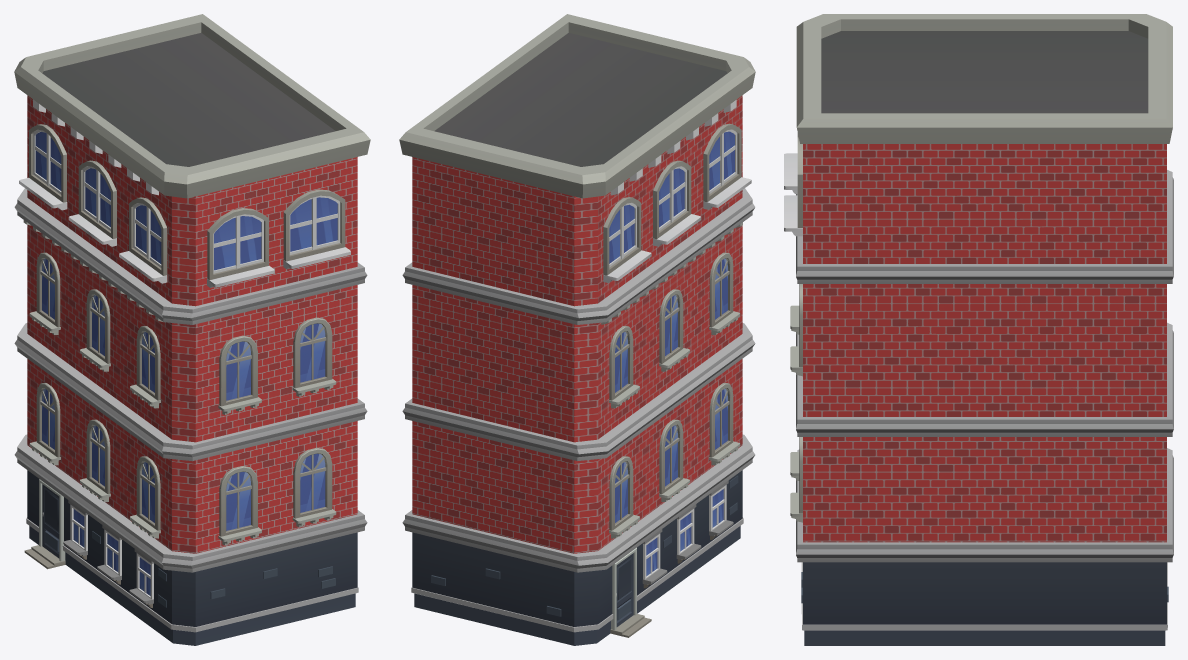
The model's file is Building_18_2_S.glb.
3 views of the same model, side by side, from view 1: azimuth 30°, elevation 25°; view 2: azimuth 150°, elevation 25°; view 3: azimuth 270°, elevation 25° (orthographic). The views are drawn at different scales.
Parts seen in each view (by area): view 1: Building_18_2_S; view 2: Building_18_2_S; view 3: Building_18_2_S.
Part boxes in pixels (x1=…): Building_18_2_S: x1=14, y1=14, x2=370, y2=645; Building_18_2_S: x1=399, y1=14, x2=755, y2=645; Building_18_2_S: x1=784, y1=14, x2=1173, y2=645.
Size of the model in its own units: 7.19 by 15.94 by 10.59.
4 materials, 4 textured.
